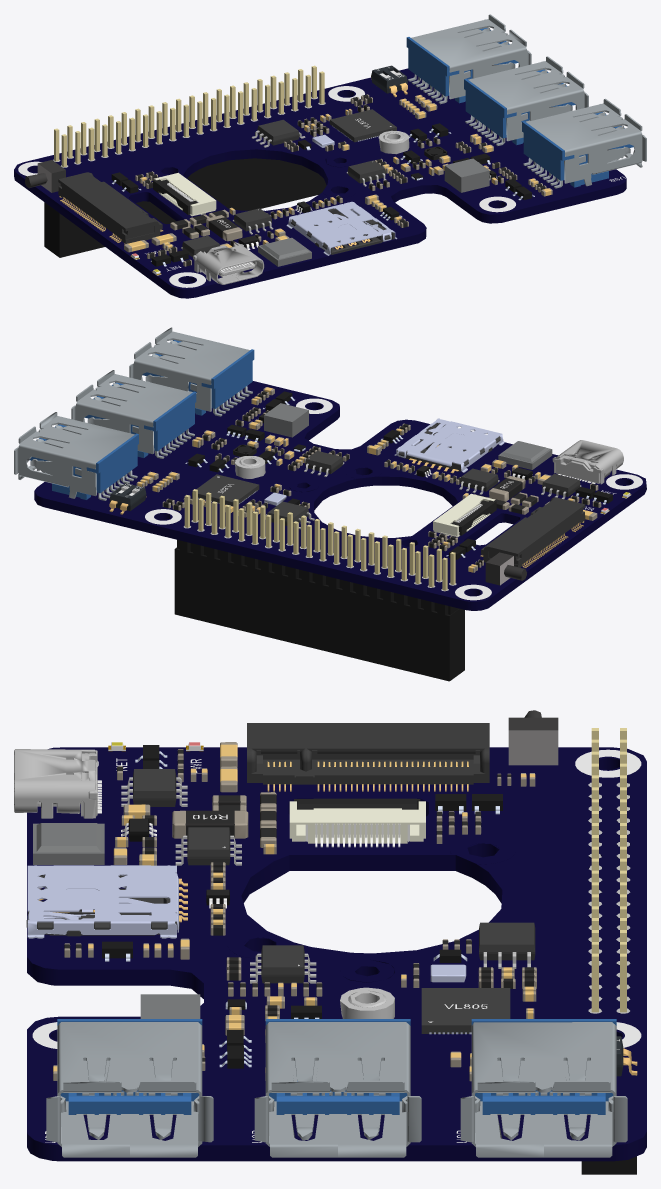
Rendered from raspberry_pi_low.glb.
The picture shows the model from 3 angles, top to bottom: view 1: azimuth 30°, elevation 25°; view 2: azimuth 150°, elevation 25°; view 3: azimuth 270°, elevation 25°; orthographic projection. The views are drawn at different scales.
Parts seen in each view (by area): view 1: USB C; view 2: USB C; view 3: USB C.
Part boxes in pixels (<box>): USB C: <box>14,14,646,298</box>; USB C: <box>14,327,646,681</box>; USB C: <box>14,710,646,1174</box>.
Bounding box in the file's own units: 0.0906 × 0.0235 × 0.0572.
Materials: 1 (1 with a texture image).
